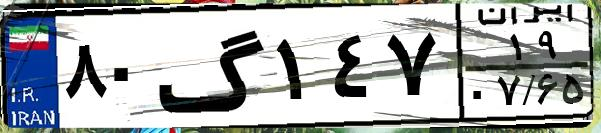0: (110, 28, 156, 98), (470, 70, 495, 125)
1: (270, 28, 330, 110), (508, 27, 537, 80)
4: (330, 28, 385, 110)
5: (560, 70, 590, 125)
6: (535, 70, 560, 125)
7: (385, 28, 445, 110), (495, 70, 520, 125)
8: (57, 26, 110, 100)
9: (537, 27, 568, 80)
گ: (156, 12, 270, 120)
